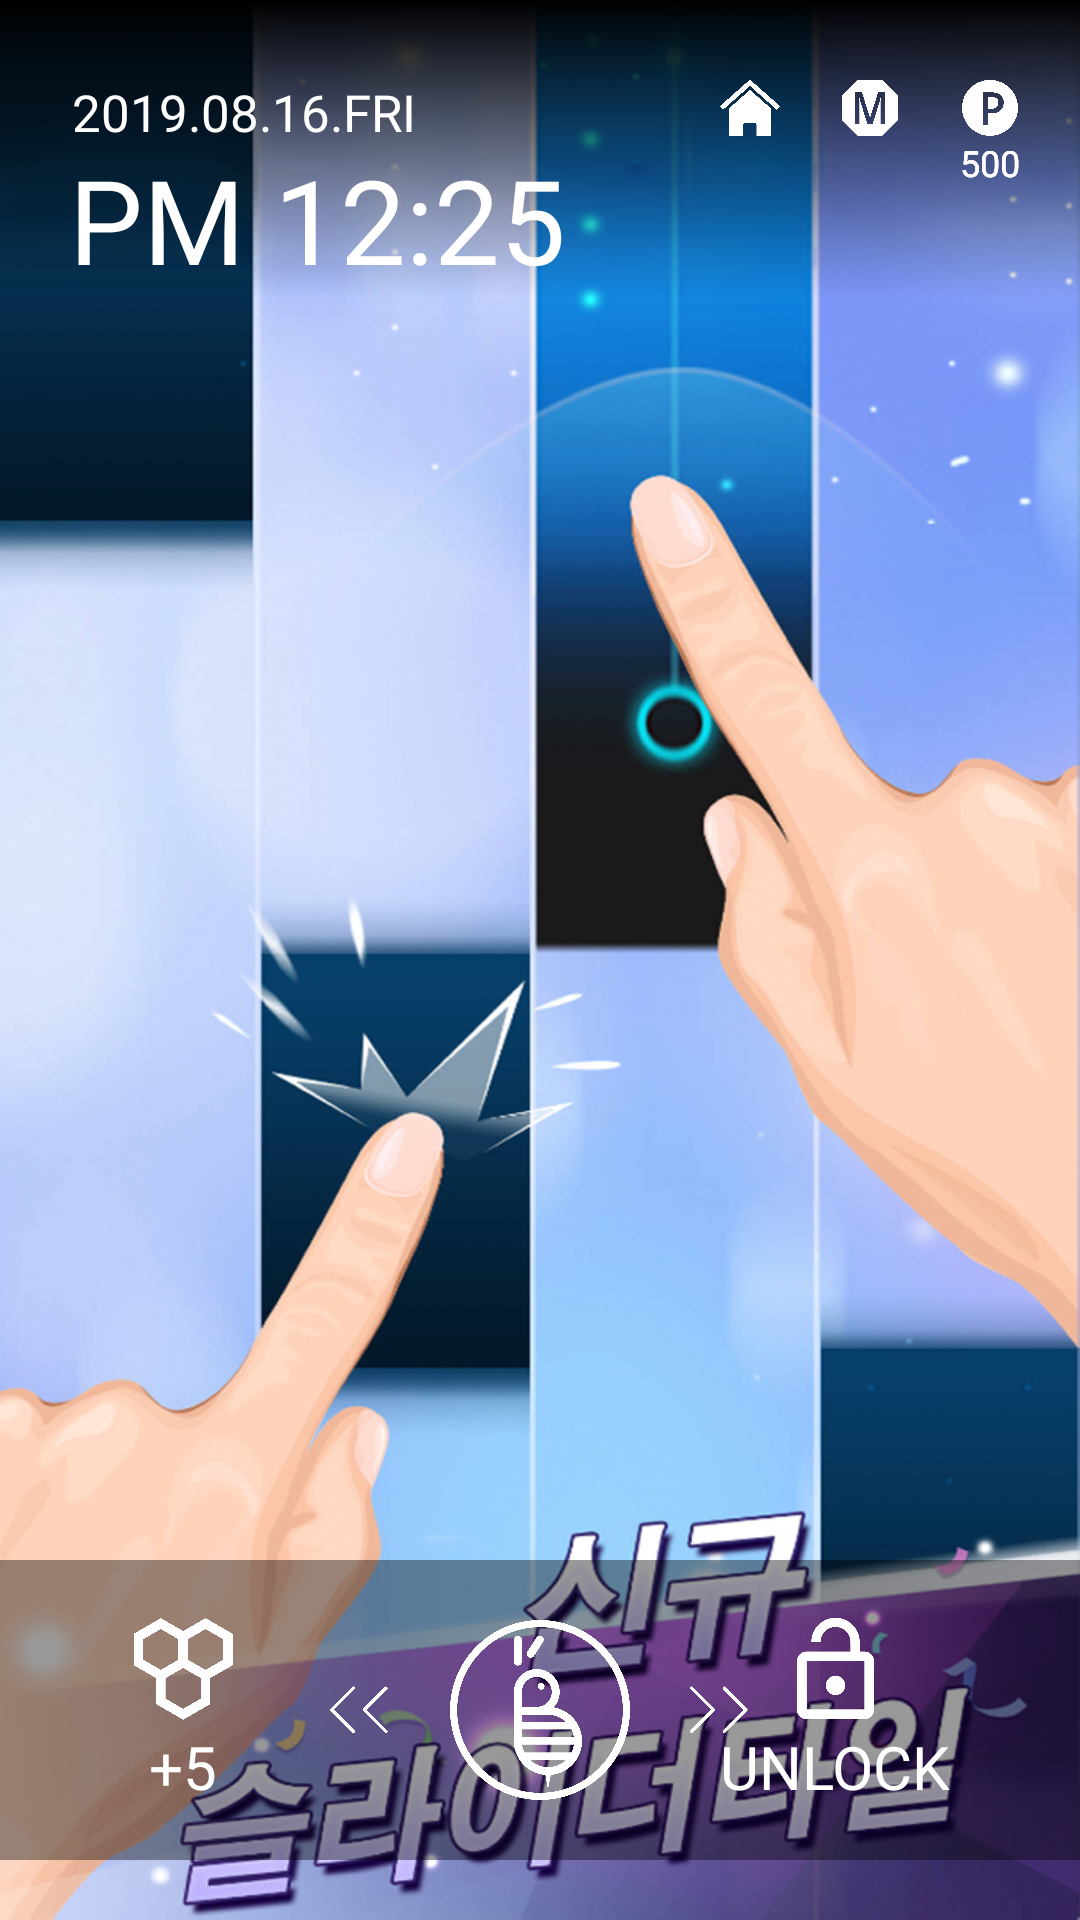

Named icons in this screenshot (1080w x 1920h) and their centers, point (x, y):
home: point (750, 108)
left arrow: point (359, 1709)
locker: point (835, 1669)
mission: point (870, 108)
point: point (990, 108)
right arrow: point (720, 1710)
